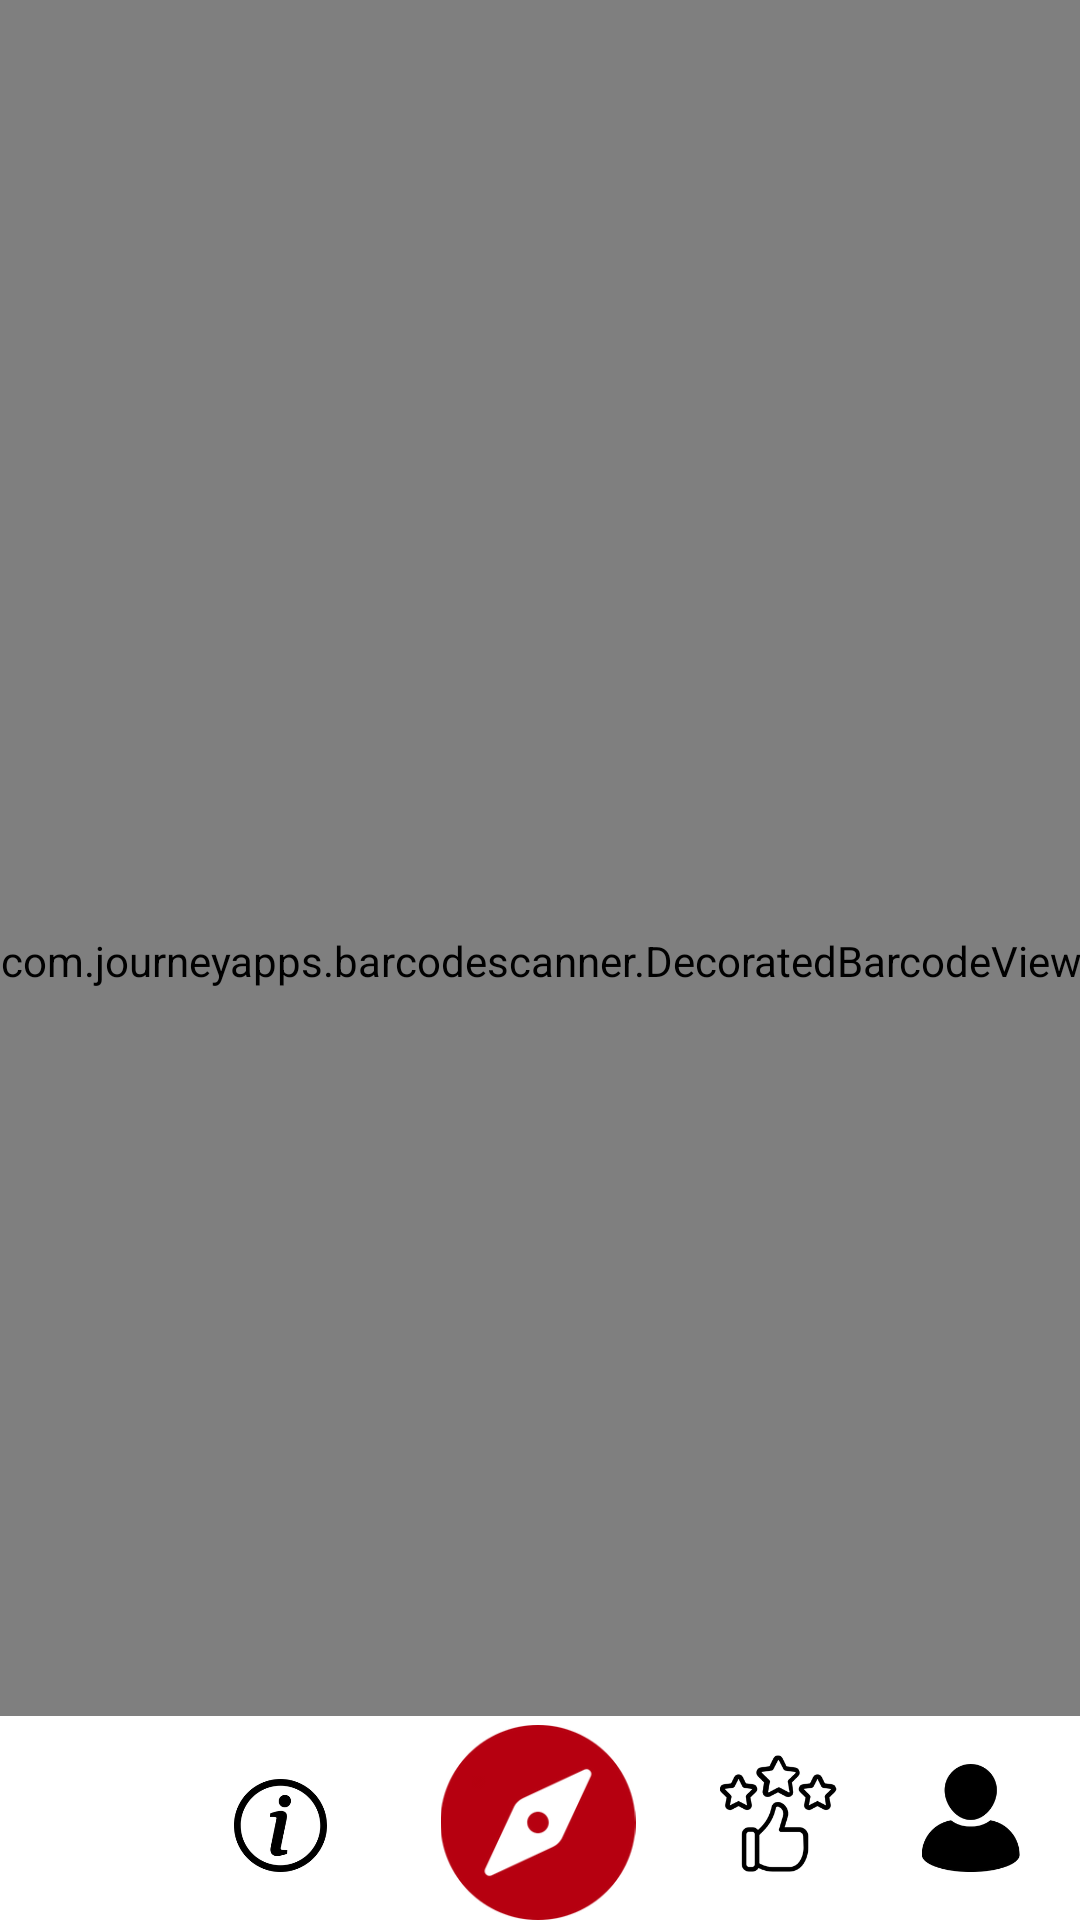

Screen size 1080 x 1920. Icon name, then its box in pixels as (x1, y1, x2, y2):
abouticon: (234, 1779, 327, 1872)
discovericon: (441, 1725, 636, 1920)
feedbackicon: (720, 1755, 837, 1872)
profileicon: (922, 1764, 1020, 1872)
